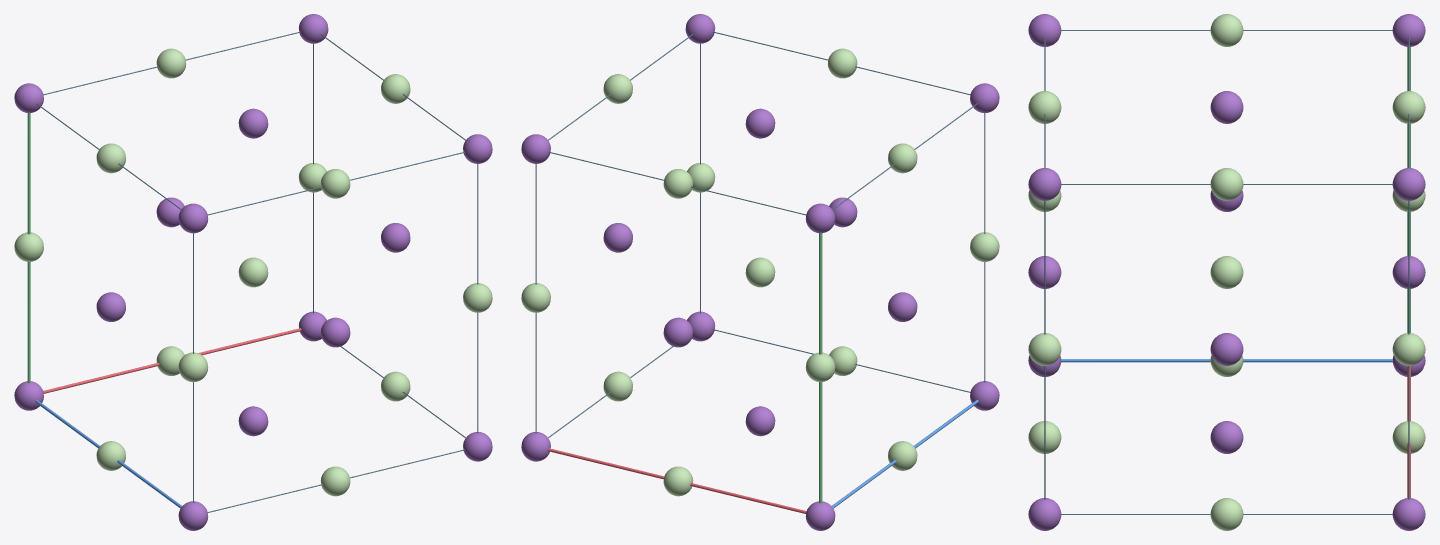
File: chat-potassium-iodide.glb
3 views of the same model, side by side, from view 1: azimuth 30°, elevation 25°; view 2: azimuth 150°, elevation 25°; view 3: azimuth 270°, elevation 25° (orthographic). The views are drawn at different scales.
Parts seen in each view (by area): view 1: K · K · 1 (×14), I · I · 1 (×13), Ô mạng và các trục a, b, c; view 2: K · K · 1 (×14), I · I · 1 (×13), Ô mạng và các trục a, b, c; view 3: K · K · 1 (×11), I · I · 1 (×10), Ô mạng và các trục a, b, c.
Part boxes in pixels (left/top/right/bottom): K · K · 1 (×14): left=14, top=14, right=492, bottom=530; I · I · 1 (×13): left=14, top=48, right=492, bottom=496; Ô mạng và các trục a, b, c: left=27, top=31, right=478, bottom=512; K · K · 1 (×14): left=521, top=14, right=999, bottom=530; I · I · 1 (×13): left=521, top=48, right=999, bottom=496; Ô mạng và các trục a, b, c: left=535, top=31, right=985, bottom=513; K · K · 1 (×11): left=1028, top=14, right=1425, bottom=530; I · I · 1 (×10): left=1028, top=14, right=1425, bottom=530; Ô mạng và các trục a, b, c: left=1044, top=30, right=1410, bottom=514.
Bounding box in the file's own units: 7.69 × 7.69 × 7.69.
